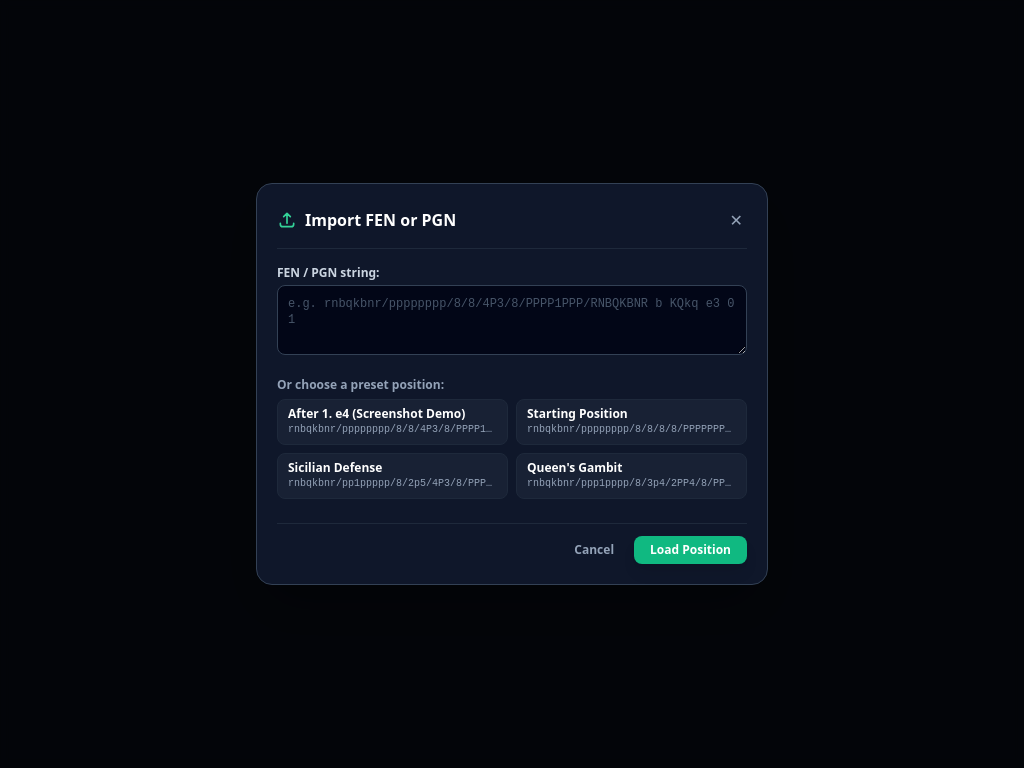
ImportModal › shows an error and stays open for invalid input
The image size is (1024, 768).
Replace the text in the text box labelled "FEN / PGN string:" with "not chess at all 1. Zz9": (512, 320) [277, 285, 747, 355]
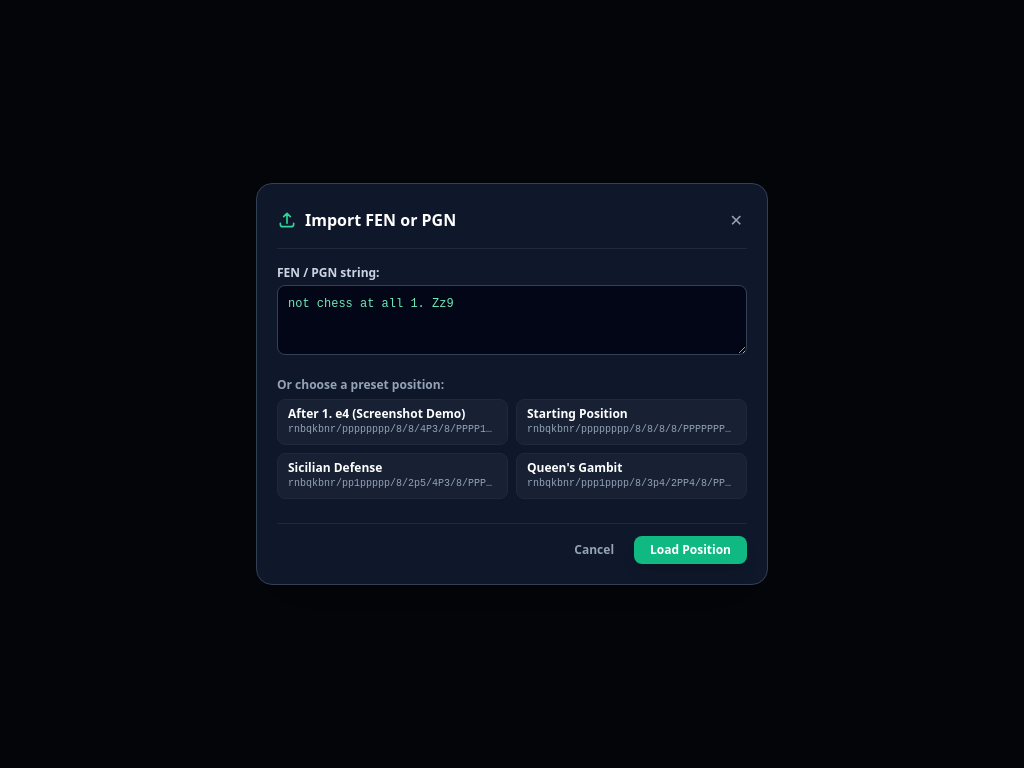
Click the button "Load Position": (690, 550) [634, 536, 747, 564]
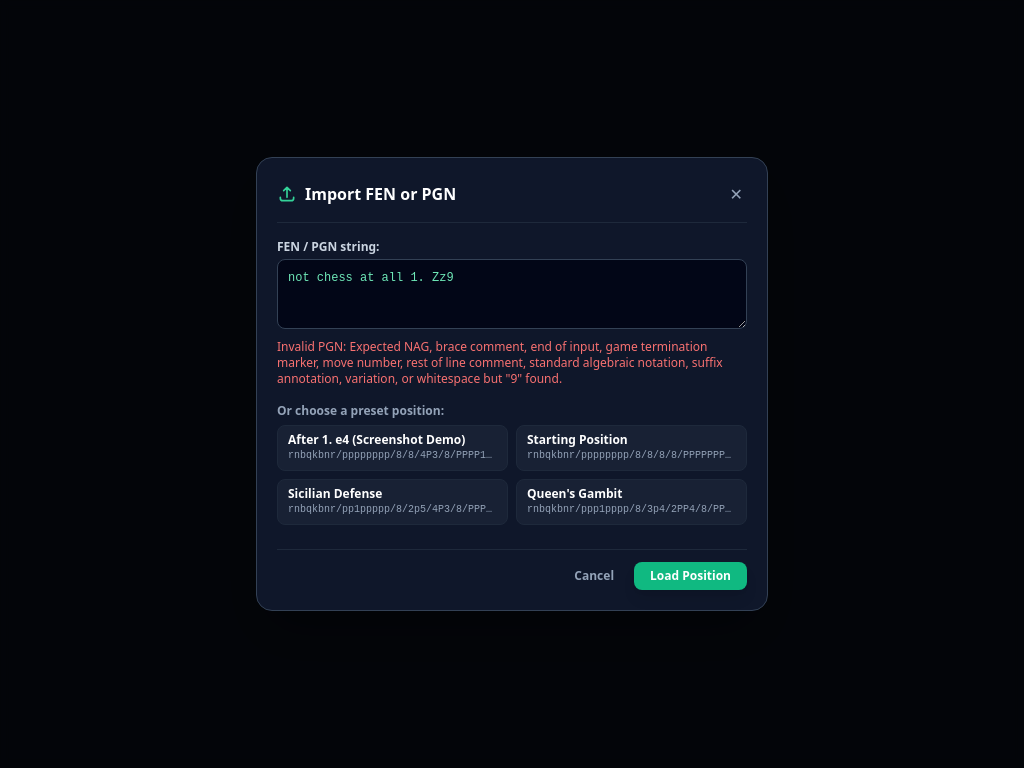
Now the message shows "Invalid PGN", box [277, 338, 723, 387]
